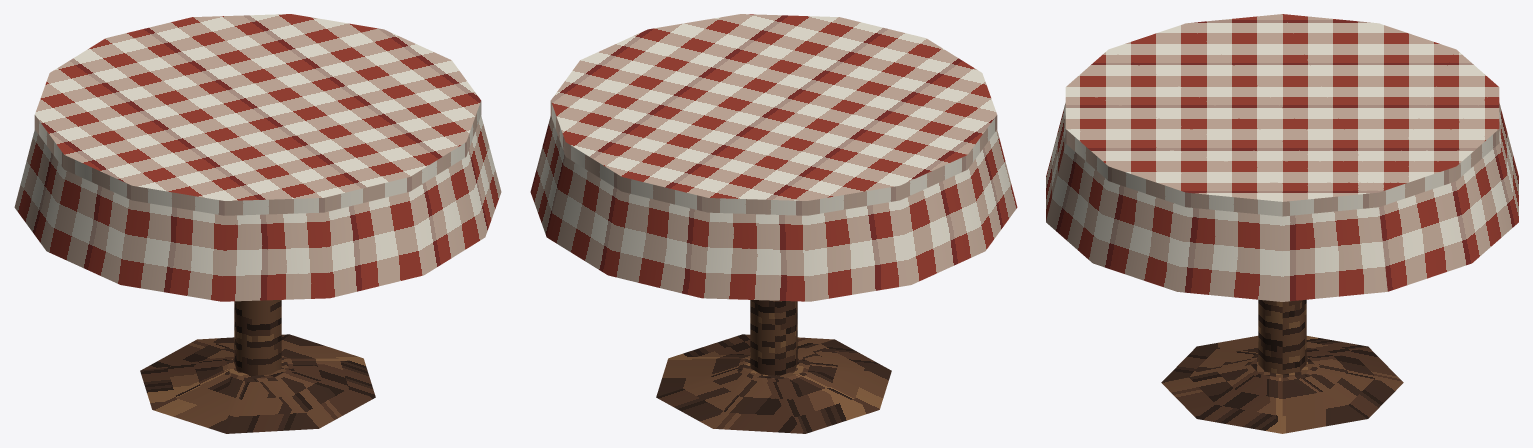
Rendered from RES_DiningTable_Round.obj.
3 views of the same model, side by side, from view 1: azimuth 30°, elevation 25°; view 2: azimuth 150°, elevation 25°; view 3: azimuth 270°, elevation 25° (orthographic).
Parts seen in each view (by area): view 1: RES_DiningTable_Round_Mesh_M_Res_Gingham, RES_DiningTable_Round_Mesh_M_Furn_WoodDark; view 2: RES_DiningTable_Round_Mesh_M_Res_Gingham, RES_DiningTable_Round_Mesh_M_Furn_WoodDark; view 3: RES_DiningTable_Round_Mesh_M_Res_Gingham, RES_DiningTable_Round_Mesh_M_Furn_WoodDark.
Part boxes in pixels (x1,y1,x2,y2): RES_DiningTable_Round_Mesh_M_Res_Gingham: (14, 14, 501, 301); RES_DiningTable_Round_Mesh_M_Furn_WoodDark: (140, 300, 375, 433); RES_DiningTable_Round_Mesh_M_Res_Gingham: (530, 14, 1017, 301); RES_DiningTable_Round_Mesh_M_Furn_WoodDark: (656, 300, 891, 433); RES_DiningTable_Round_Mesh_M_Res_Gingham: (1046, 14, 1518, 301); RES_DiningTable_Round_Mesh_M_Furn_WoodDark: (1161, 299, 1403, 433).
Size of the model in its own units: 1.2 by 0.75 by 1.17.
2 materials, 2 textured.
